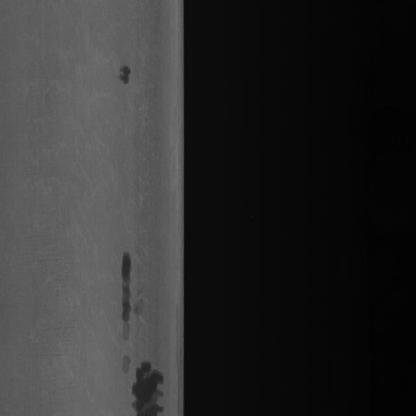oil_spot: (118, 241, 136, 377), (132, 356, 168, 416), (119, 52, 129, 88)
